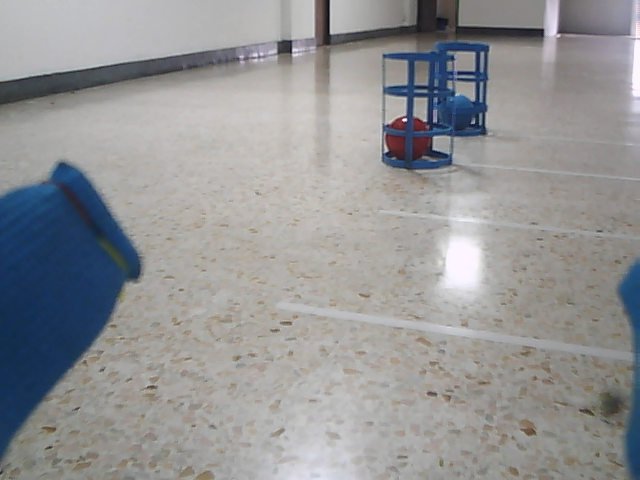Blue ball: (441, 93, 477, 131)
Cyro: (379, 48, 456, 169), (434, 40, 491, 140)
Red ball: (385, 113, 431, 162)
